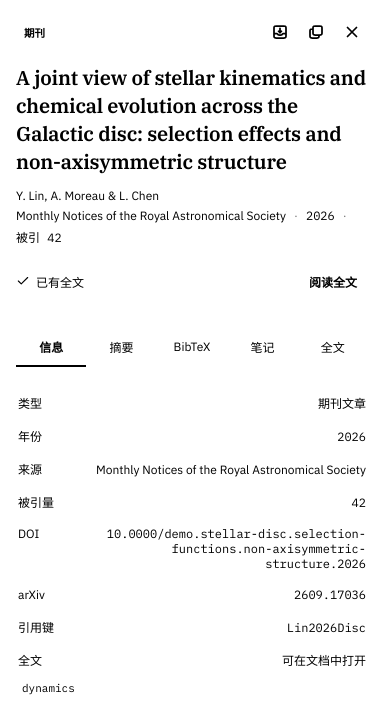
Scenario: RefDetail reading-first interaction › shows an honest error when clipboard permission rejects the copy
The width and height of the screenshot is (383, 716).
Click the button named "复制引用键" at (316, 32), box left=300, top=16, right=332, bottom=48
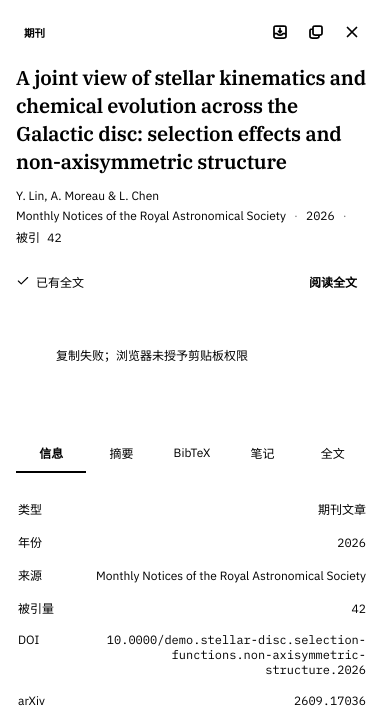
Expected: the message reads "复制失败；浏览器未授予剪贴板权限", left=56, top=348, right=248, bottom=363
